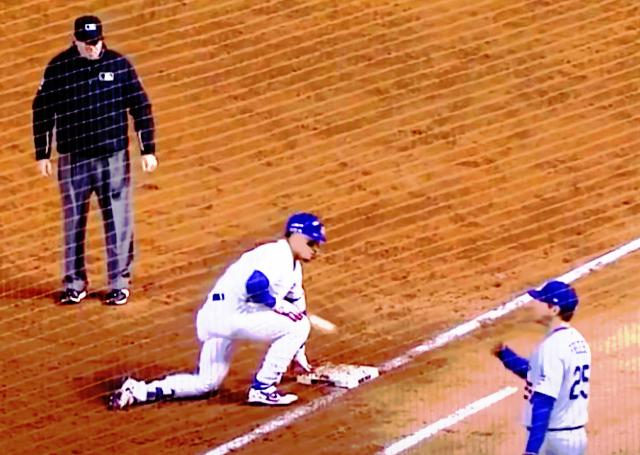jatuh: (100, 206, 346, 420)
